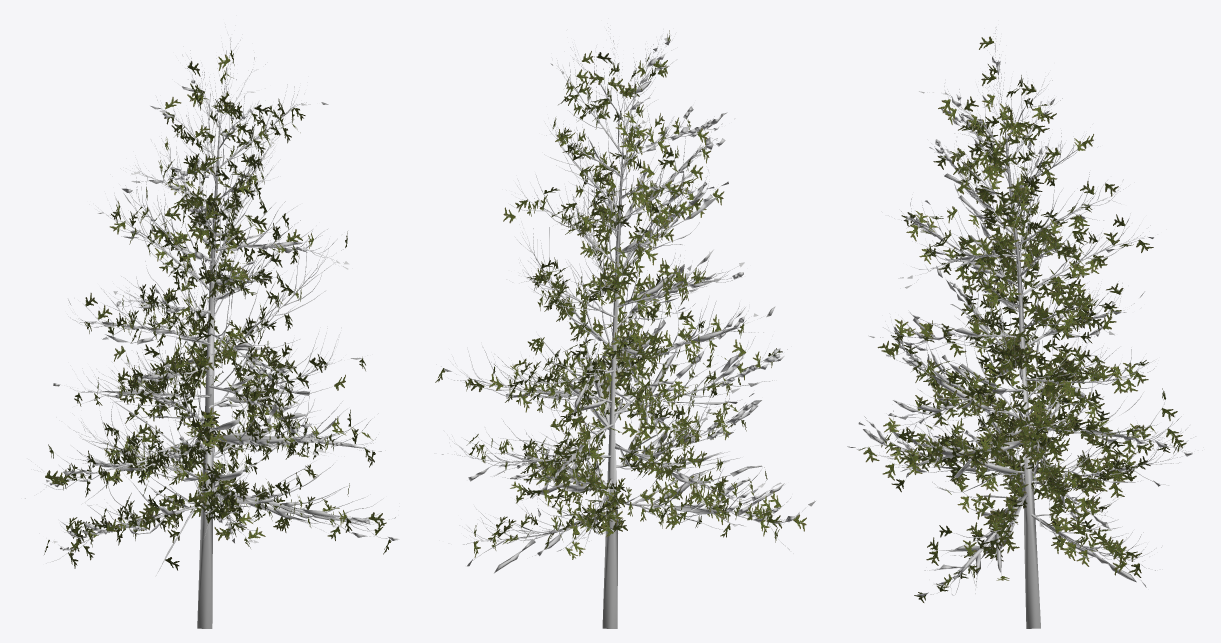
Rendered from Tree6.fbx.
3 renders of one model, left to right at view 1: azimuth 30°, elevation 25°; view 2: azimuth 150°, elevation 25°; view 3: azimuth 270°, elevation 25°, orthographic. The views are drawn at different scales.
Visible parts, largest first — view 1: Tree5(leafless); view 2: Tree5(leafless); view 3: Tree5(leafless).
Part boxes in pixels (x1=…): Tree5(leafless): x1=24, y1=37, x2=399, y2=628; Tree5(leafless): x1=435, y1=27, x2=815, y2=628; Tree5(leafless): x1=847, y1=27, x2=1195, y2=628.
Bounding box in the file's own units: 441 × 730 × 401.
